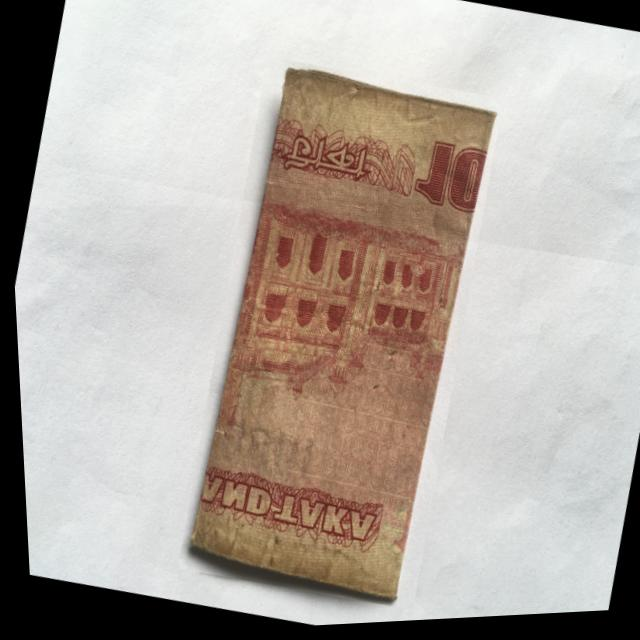Taka: (150, 49, 523, 624)
